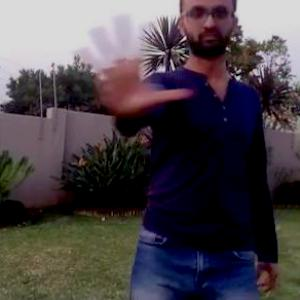follow_hand: (69, 8, 194, 120)
